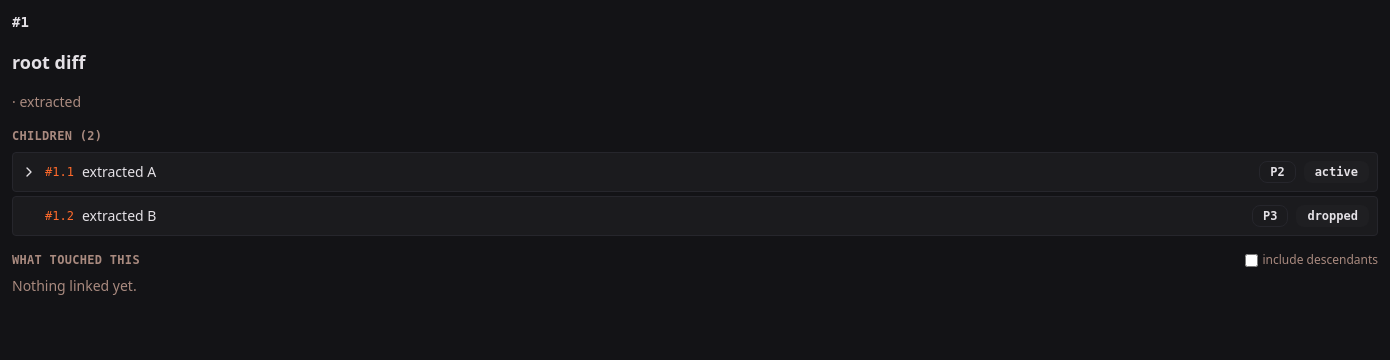
ItemPage › lists children collapsed and lazy-loads the next level on expand
The image size is (1390, 360).
expect the text "extracted A" is shown: met, box top-left (82, 162), bottom-right (156, 181)
expect the text "ping reviewer" is not shown: met
Click the button with test id "expand-1.1" at (29, 172), box top-left (21, 164), bottom-right (37, 180)
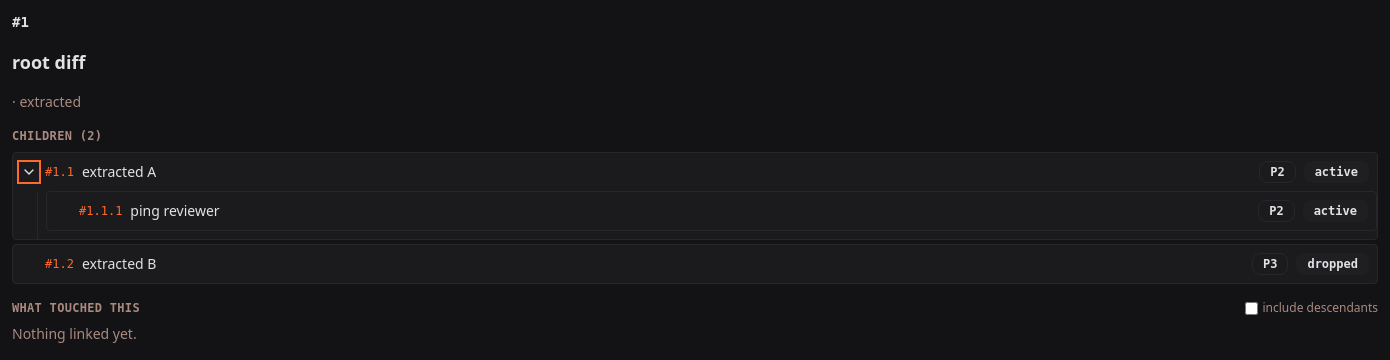
expect the text "ping reviewer" is shown: met, box top-left (130, 201), bottom-right (220, 220)
